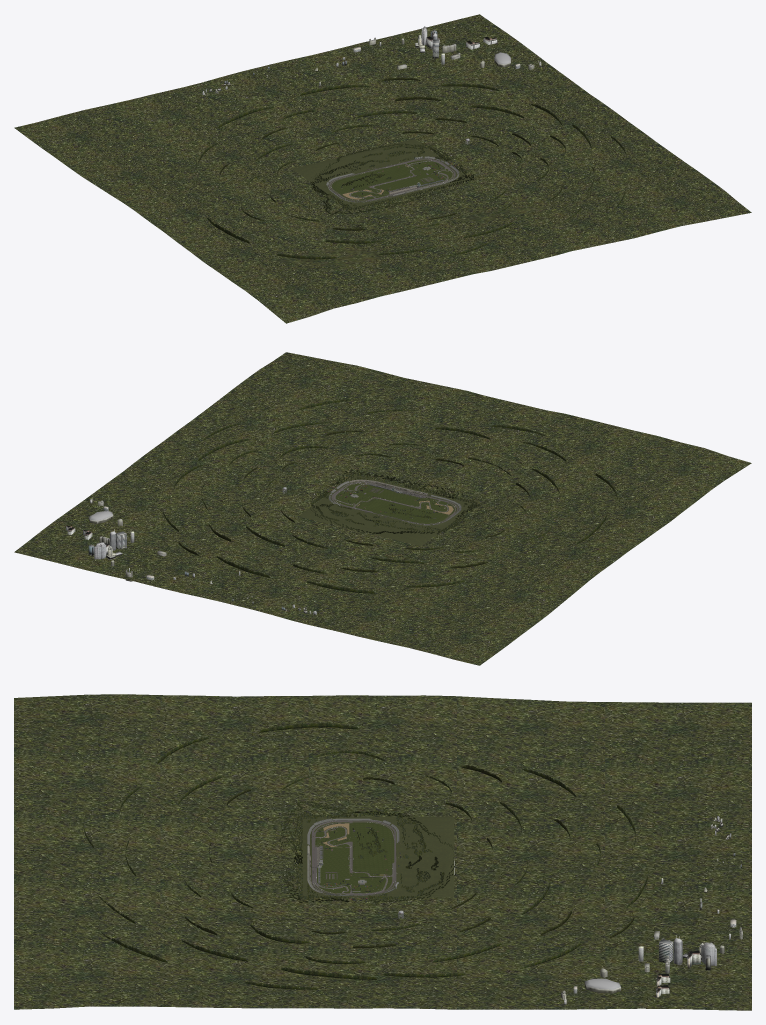
Rendered from indianapolis.clean.glb.
3 renders of one model, top to bottom at view 1: azimuth 30°, elevation 25°; view 2: azimuth 150°, elevation 25°; view 3: azimuth 270°, elevation 25°, orthographic. The views are drawn at different scales.
Visible parts, largest first — view 1: Object_105, Object_75, Object_36, Object_60, Object_74, Object_61; view 2: Object_105, Object_75, Object_36, Object_74, Object_60, Object_61; view 3: Object_105, Object_75, Object_36, Object_74, Object_60, Object_61, Object_14.
Boxes of the visible parts, <box> form: Object_105: <box>14,14,751,323</box>; Object_75: <box>197,77,626,259</box>; Object_36: <box>330,159,453,201</box>; Object_60: <box>310,145,473,210</box>; Object_74: <box>202,26,541,95</box>; Object_61: <box>308,143,480,214</box>; Object_105: <box>14,352,751,665</box>; Object_75: <box>162,398,617,593</box>; Object_36: <box>334,482,456,524</box>; Object_74: <box>66,498,316,614</box>; Object_60: <box>310,473,480,531</box>; Object_61: <box>306,469,496,533</box>; Object_105: <box>14,694,751,1010</box>; Object_75: <box>83,722,648,989</box>; Object_36: <box>314,821,394,894</box>; Object_74: <box>561,816,742,1004</box>; Object_60: <box>286,810,444,900</box>; Object_61: <box>279,801,455,903</box>; Object_14: <box>312,820,396,894</box>.
Size of what is drawn, in the model's own units: 6430 by 389 by 6511.
Materials: 97 (97 with a texture image).
